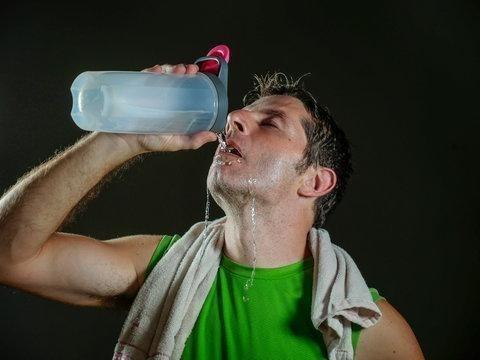gym bottle: (68, 51, 230, 143)
